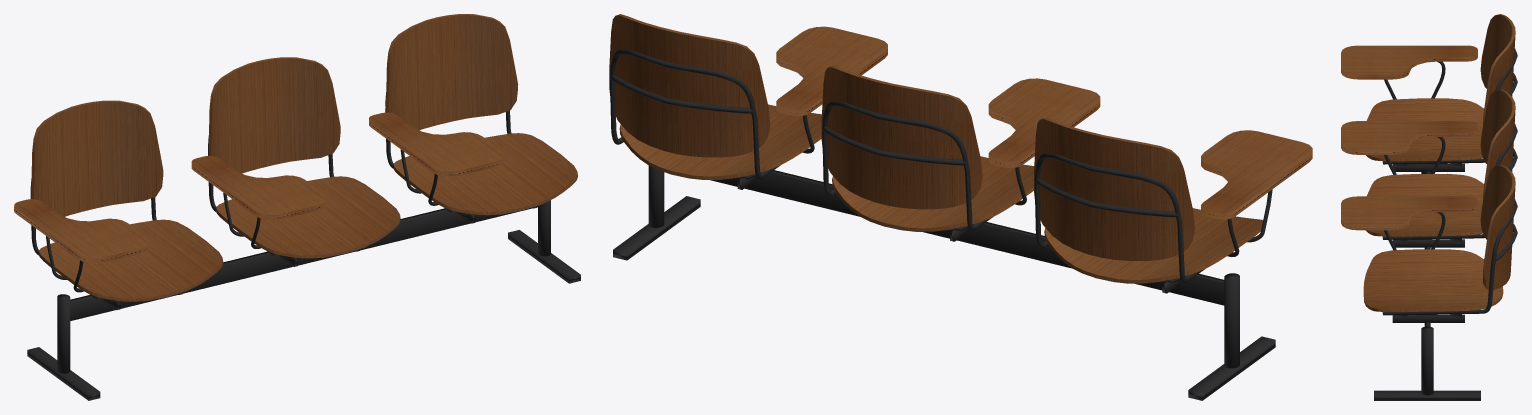
Rendered from LT_Seats.fbx.
3 renders of one model, left to right at view 1: azimuth 30°, elevation 25°; view 2: azimuth 150°, elevation 25°; view 3: azimuth 270°, elevation 25°, orthographic. The views are drawn at different scales.
Visible parts, largest first — view 1: Seats_LOD_0; view 2: Seats_LOD_0; view 3: Seats_LOD_0.
Part boxes in pixels (x1,y1,x2,y2): Seats_LOD_0: (14,14,580,400); Seats_LOD_0: (609,14,1312,400); Seats_LOD_0: (1341,14,1517,400).
Size of what is drawn, in the model's own units: 187 by 76 by 63.6.
